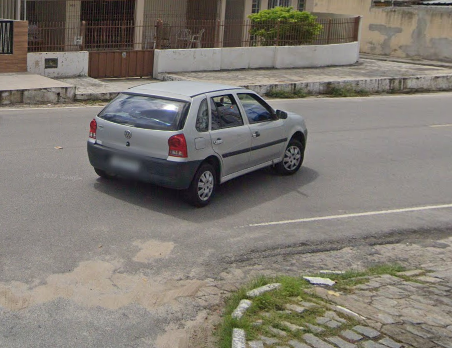car: (87, 78, 313, 210)
